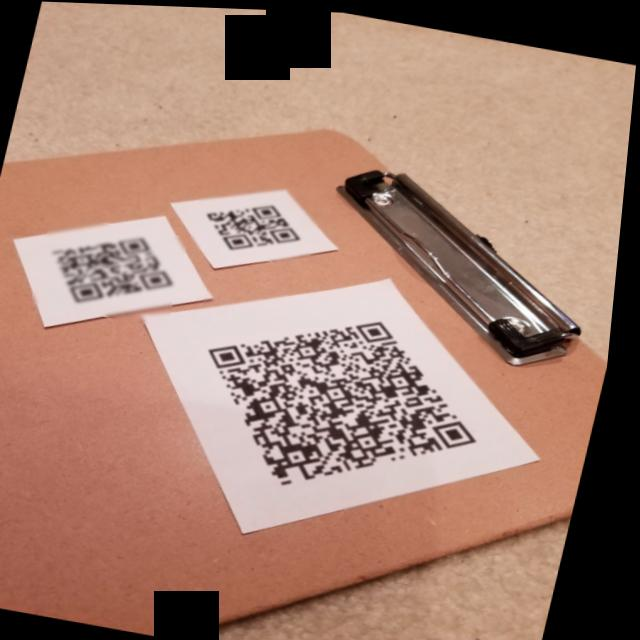QR_CODE: (168, 279, 520, 527), (34, 212, 195, 328), (192, 168, 330, 266)
